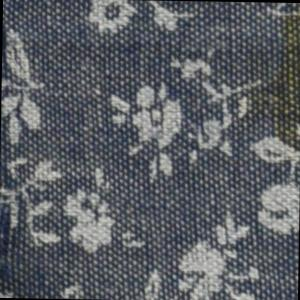Damage: (1, 159, 34, 299), (2, 17, 23, 101)
Stain: (244, 2, 300, 158)
